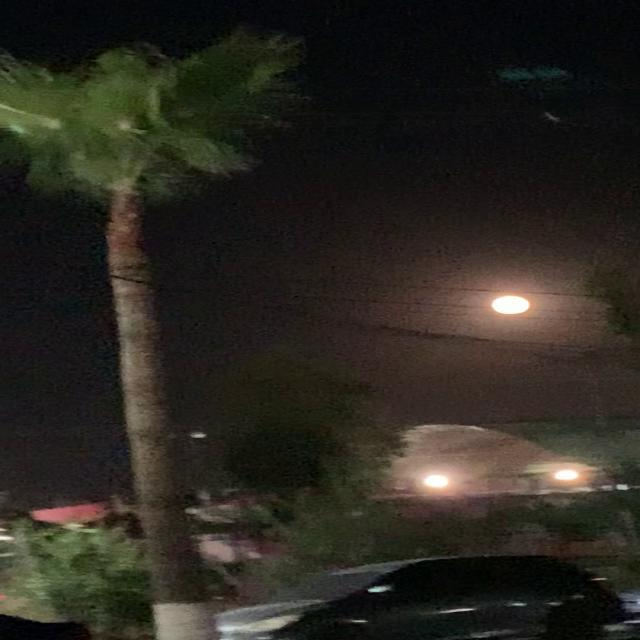moon: (482, 292, 540, 320)
